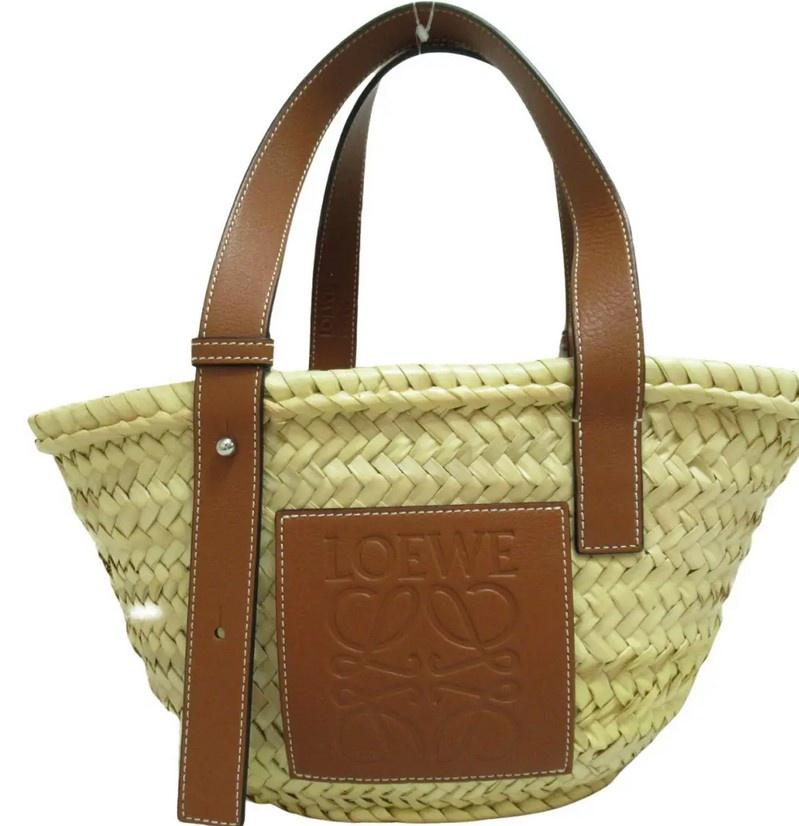LOEWE: (305, 571, 548, 781)
